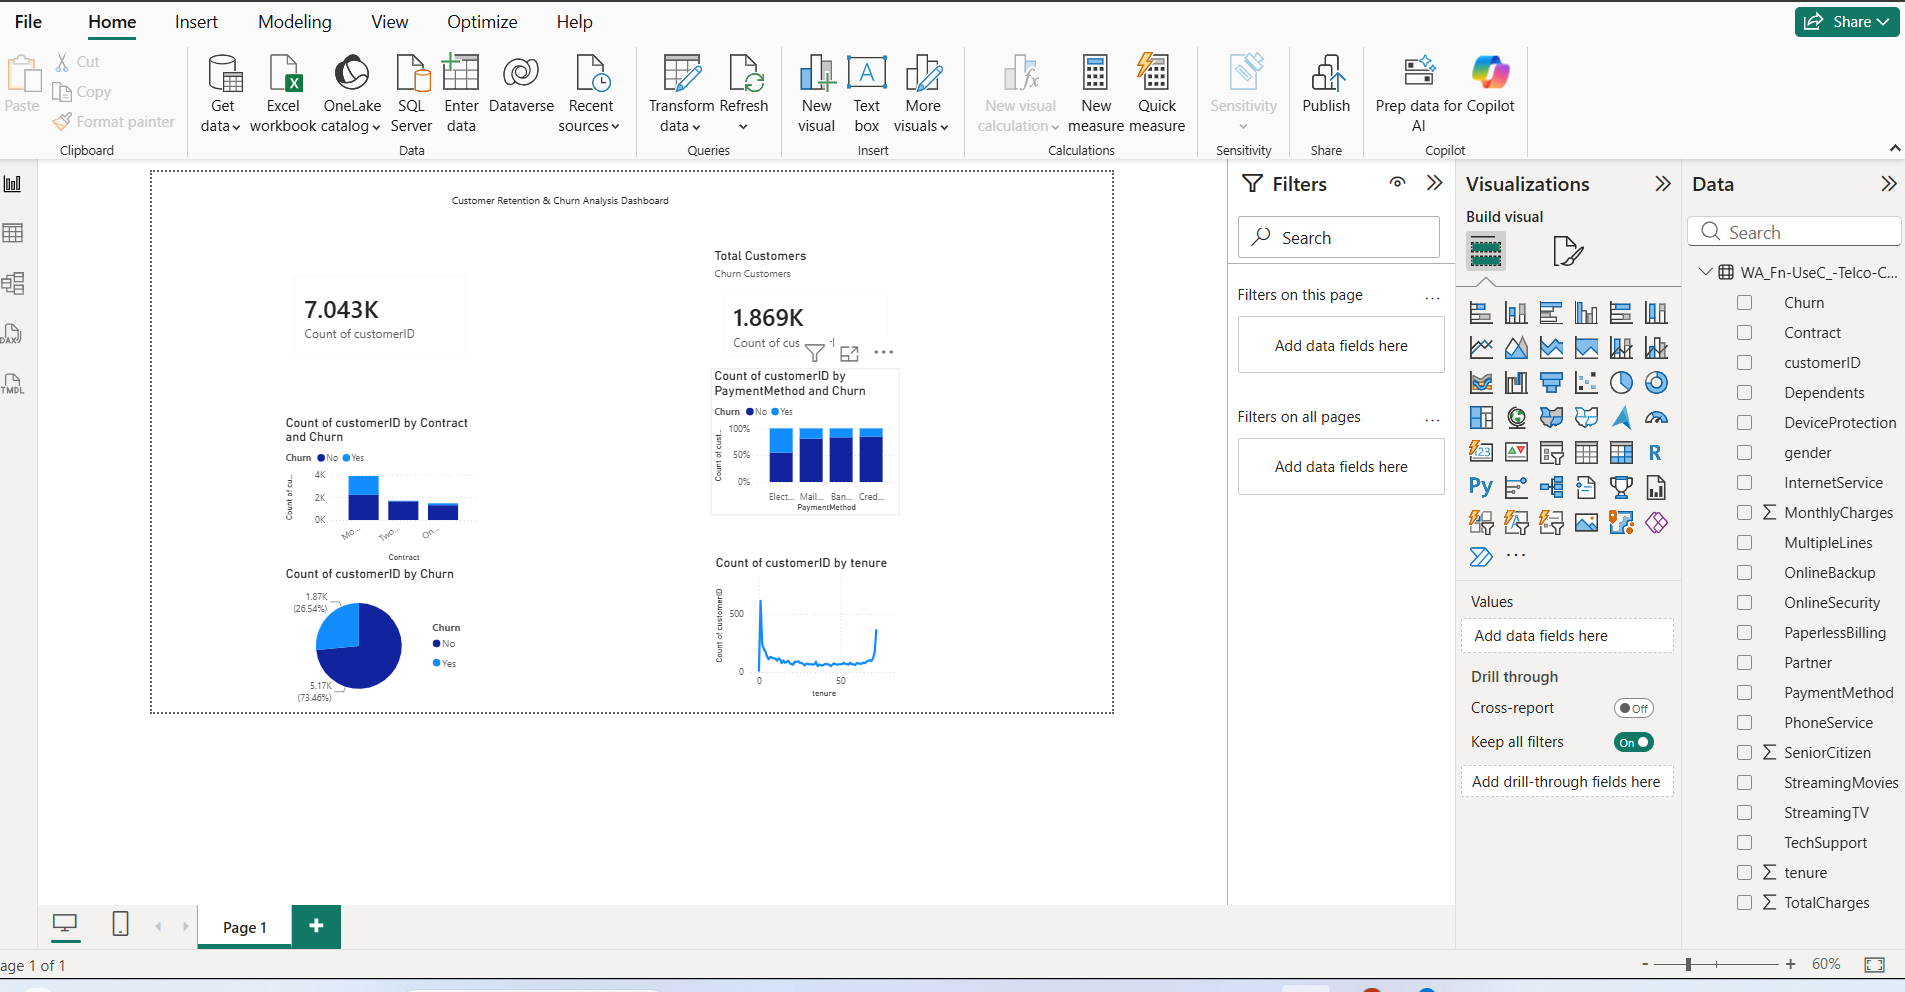

What the dashboard file says about the page in this screenshot:
{"tool":"powerbi","page":{"name":"Page 1","canvas":[1280,720],"ordinal":0},"visuals":[{"type":"cardVisual","fields":{"Data":["CountNonNull(WA_Fn-UseC_-Telco-Customer-Churn.customerID)"]},"box":[173.3,121.7,263.3,140],"z":0},{"type":"cardVisual","title":"Total Customers","fields":{"Data":["CountNonNull(WA_Fn-UseC_-Telco-Customer-Churn.customerID)"]},"box":[745,101.7,253.3,160],"z":1},{"type":"pieChart","fields":{"Category":["WA_Fn-UseC_-Telco-Customer-Churn.Churn"],"Y":["CountNonNull(WA_Fn-UseC_-Telco-Customer-Churn.customerID)"]},"box":[173.3,525,263.3,195],"z":2},{"type":"columnChart","fields":{"Category":["WA_Fn-UseC_-Telco-Customer-Churn.Contract"],"Y":["CountNonNull(WA_Fn-UseC_-Telco-Customer-Churn.customerID)"],"Series":["WA_Fn-UseC_-Telco-Customer-Churn.Churn"]},"box":[173.3,323.3,263.3,201.7],"z":3},{"type":"hundredPercentStackedColumnChart","fields":{"Category":["WA_Fn-UseC_-Telco-Customer-Churn.PaymentMethod"],"Y":["CountNonNull(WA_Fn-UseC_-Telco-Customer-Churn.customerID)"],"Series":["WA_Fn-UseC_-Telco-Customer-Churn.Churn"]},"box":[745,261.7,251.7,196.7],"z":4},{"type":"lineChart","fields":{"Category":["WA_Fn-UseC_-Telco-Customer-Churn.tenure"],"Y":["CountNonNull(WA_Fn-UseC_-Telco-Customer-Churn.customerID)"]},"box":[746.7,510,251.7,196.7],"z":5},{"type":"textbox","box":[70,22,906,40],"z":6}]}

Visuals, with their boxes in screenshot pixels (x1, y1, x2, y2):
cardVisual - CountNonNull(WA_Fn-UseC_-Telco-Customer-Churn.customerID): <bbox>304, 142, 675, 339</bbox>
"Total Customers" cardVisual: <bbox>1109, 114, 1466, 339</bbox>
pieChart - WA_Fn-UseC_-Telco-Customer-Churn.Churn x CountNonNull(WA_Fn-UseC_-Telco-Customer-Churn.customerID): <bbox>304, 710, 675, 985</bbox>
columnChart - WA_Fn-UseC_-Telco-Customer-Churn.Contract x CountNonNull(WA_Fn-UseC_-Telco-Customer-Churn.customerID): <bbox>304, 426, 675, 710</bbox>
hundredPercentStackedColumnChart - WA_Fn-UseC_-Telco-Customer-Churn.PaymentMethod x CountNonNull(WA_Fn-UseC_-Telco-Customer-Churn.customerID): <bbox>1109, 339, 1464, 616</bbox>
lineChart - WA_Fn-UseC_-Telco-Customer-Churn.tenure x CountNonNull(WA_Fn-UseC_-Telco-Customer-Churn.customerID): <bbox>1112, 689, 1466, 966</bbox>
textbox: <bbox>158, 1, 1435, 58</bbox>
